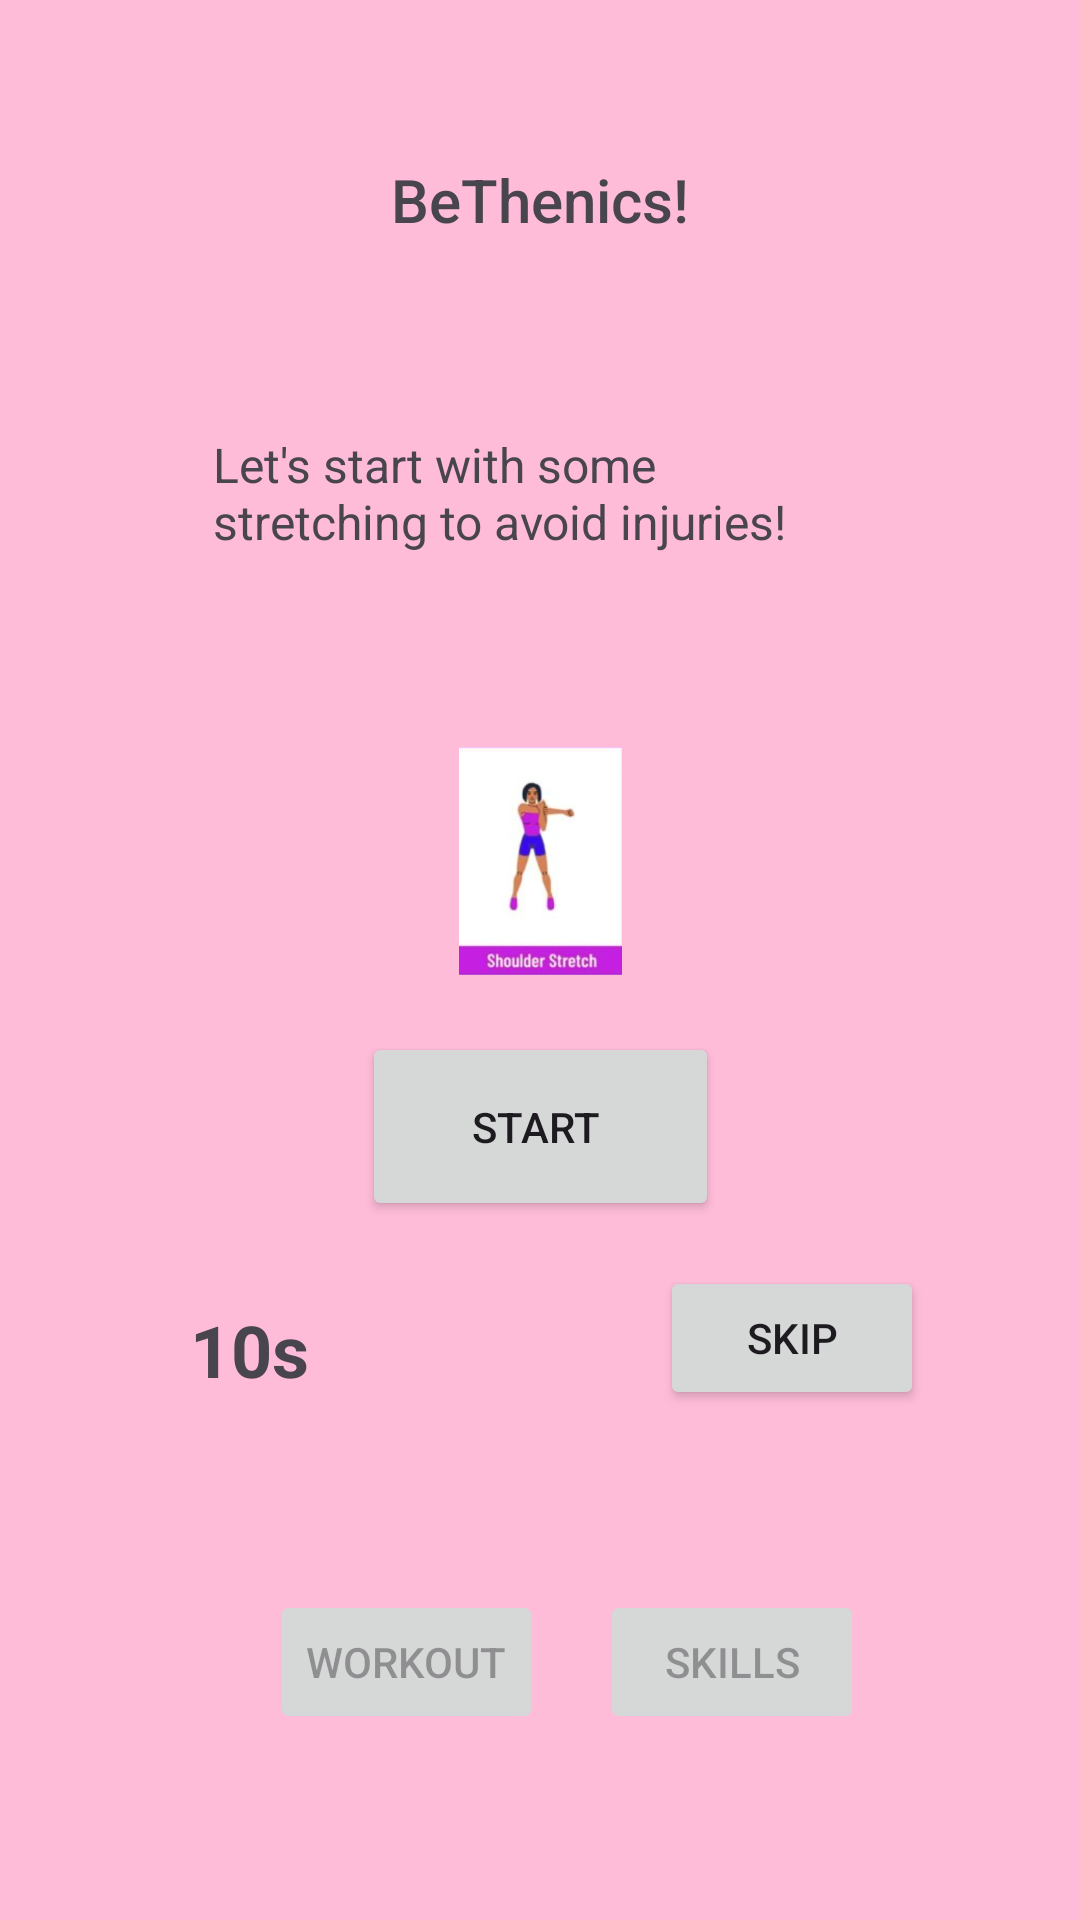

Screen size 1080 × 1920. Icon name, then its box in pixels as bbox=(x1, y1, x2, y2):
Stretch Image: bbox=(459, 747, 622, 975)
